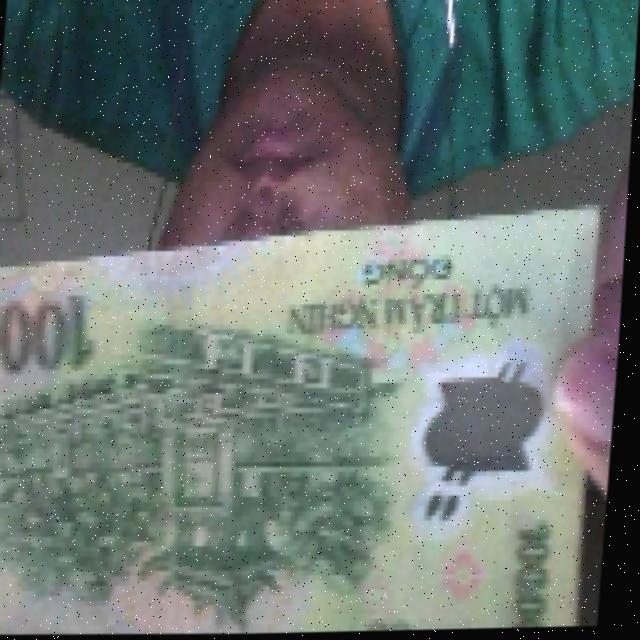100 000 VND: (0, 200, 620, 640)
